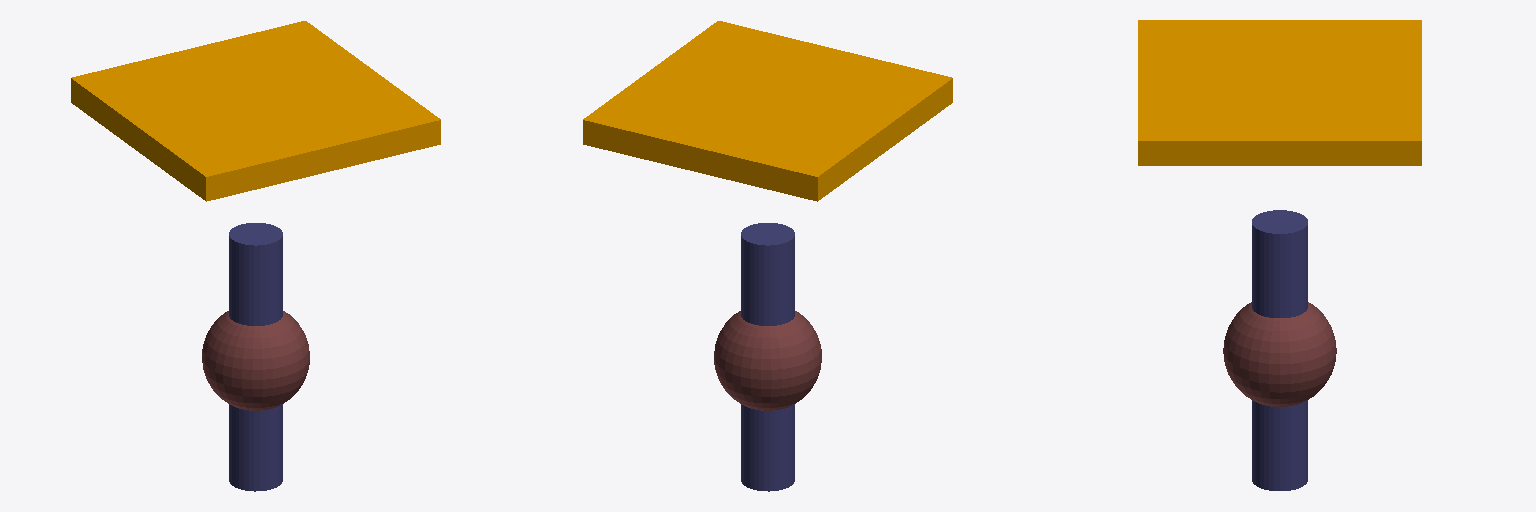
URDF robot description (rbot):
<?xml version="1.0" ?>

<robot name="rbot">

    <link name="base_link">
        <inertial>
            <origin xyz="0.0 0.0 0.0" rpy="0 0 0" />
            <mass value="0.01" />
            <inertia ixx="0.0000001" iyy="0.0000001" izz="0.0000001" ixy="0" ixz="0" iyz="0" />
        </inertial>
        <visual>
            <origin xyz="0.0 0.0 0.0" rpy="0 0 0" />
            <geometry>
                <box size="0.5 0.5 0.05" />
            </geometry>
        </visual>
    </link>

    <link name="link0">
        <inertial>
            <origin xyz="0.0 0.0 -1.0" rpy="0 0 0" />
            <mass value="0.5" />
            <inertia ixx="0.001" iyy="0.001" izz="0.001" ixy="0" ixz="0" iyz="0" />
        </inertial>
        <visual>
            <origin xyz="0.0 0.0 -0.5" rpy="0 0 0" />
            <geometry>
                <cylinder radius="0.05" length="0.5"/>
            </geometry>
            <material name="material_gray">
                <color rgba="0.3 0.3 0.5 1.0" />
            </material>
        </visual>
        <visual>
            <origin xyz="0.0 0.0 -0.5" rpy="0 0 0" />
            <geometry>
                <sphere radius="0.1"/>
            </geometry>
            <material name="material_gray">
                <color rgba="0.5 0.3 0.3 1.0" />
            </material>
        </visual>
    </link>

    
    <joint name="j0" type="revolute">
        <parent link="base_link" />
        <child link="link0" />
        <origin xyz="0.000000 0.000000 0.000000" rpy="-0.000000 0.000000 -0.000000" />
        <axis xyz="1 0 0" />
        <limit lower="-2.967" upper="2.967" effort="176" velocity="1.7104" />
    </joint>

    
</robot>

--- Facts derived from the render (not from the file) ---
The picture shows the robot from 3 angles, left to right: view 1: azimuth 30°, elevation 25°; view 2: azimuth 150°, elevation 25°; view 3: azimuth 270°, elevation 25°; orthographic projection.
Robot: rbot — 2 links, 1 joints (1 revolute); root link base_link; default pose: all joints at 0.
Visible links, largest first — view 1: base_link, link0; view 2: base_link, link0; view 3: base_link, link0.
Link boxes in pixels (x1,y1,x2,y2): base_link: (71, 21, 440, 201); link0: (202, 223, 309, 491); base_link: (583, 21, 952, 201); link0: (714, 223, 821, 491); base_link: (1138, 20, 1421, 165); link0: (1223, 210, 1336, 490).
Size in the robot's own frame: 0.5 by 0.5 by 0.775 metres.
Geometry: primitives only (box / cylinder / sphere), no mesh files.